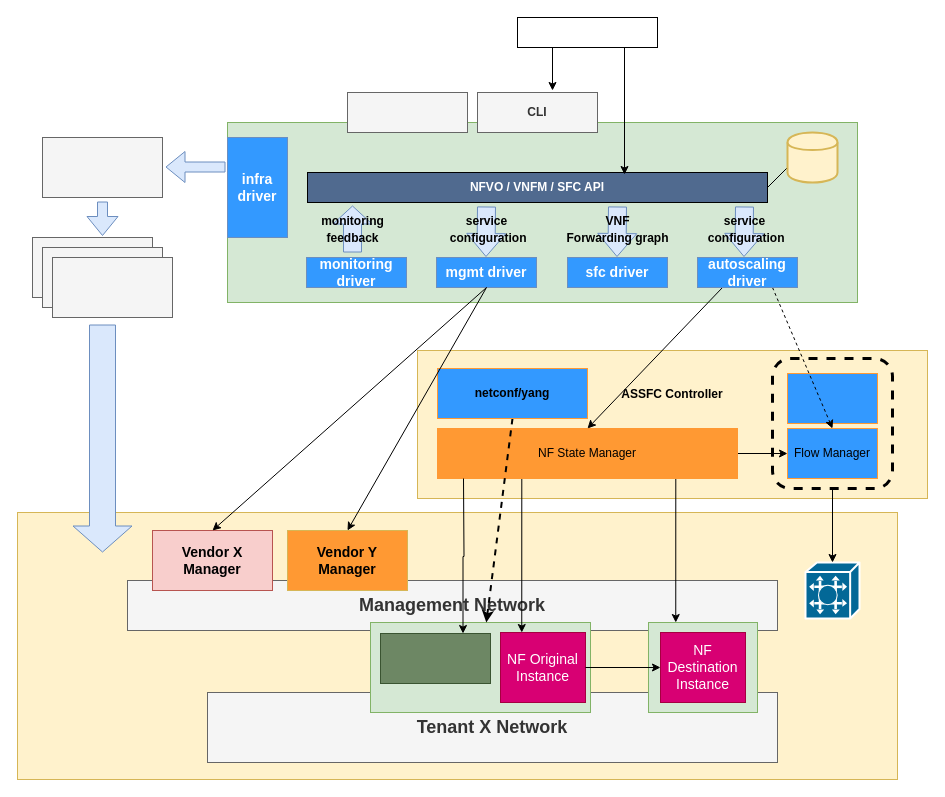
The diagram is 945 pixels wide and 797 high, and some of its shapes have lost their labels. Each missing label, with the centre of its shape:
DB: [812,157]
HEAT: [102,167]
Horizon(GUI): [407,112]
HSL: [435,658]
NFVO / OSS / BSS: [587,32]
Open vSwitch: [832,590]
OpenStack Nova, neutron: [112,287]
OVSDB: [832,398]
